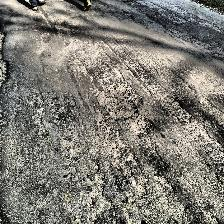pothole: (94, 84, 142, 119), (132, 116, 154, 134)
